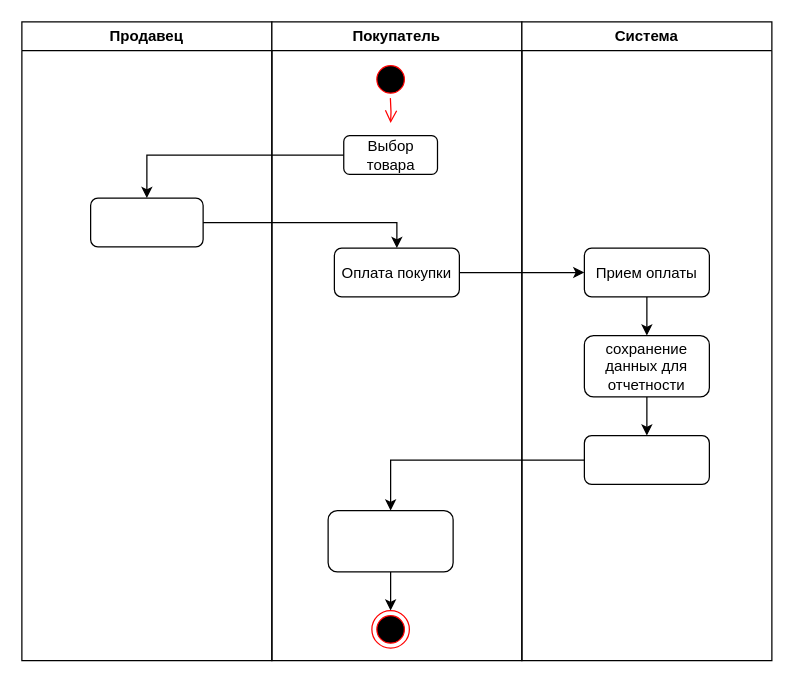
The diagram is 794 pixels wide and 683 high, and some of its shapes have lost their labels. Each missing label, with the centre of its shape:
"Выдача чека" goes at point 646,459.
"Оформление покупки" goes at point 146,222.
"получение чека и товара" goes at point 390,540.
